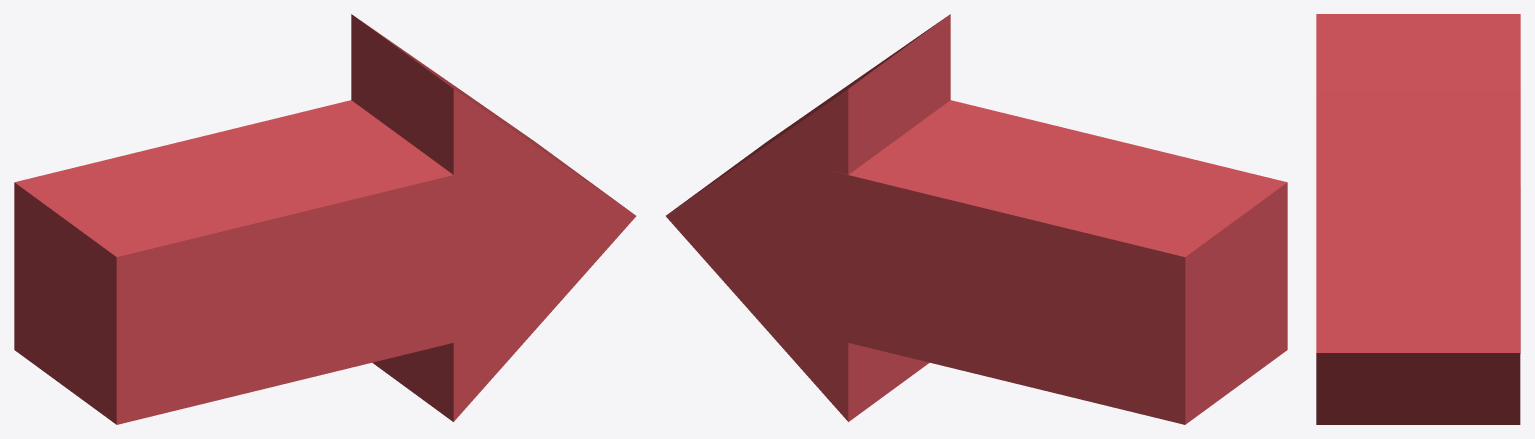
The model's file is Arrows.fbx.
3 views of the same model, side by side, from view 1: azimuth 30°, elevation 25°; view 2: azimuth 150°, elevation 25°; view 3: azimuth 270°, elevation 25° (orthographic).
Parts seen in each view (by area): view 1: root.002, root.001; view 2: root.002, root.001; view 3: root.001, root.002.
Part boxes in pixels (<box>): root.002: <box>14,100,470,424</box>; root.001: <box>351,14,636,421</box>; root.002: <box>831,100,1287,424</box>; root.001: <box>666,14,950,421</box>; root.001: <box>1316,92,1520,424</box>; root.002: <box>1316,14,1520,353</box>.
Size of the model in its own units: 345 by 211 by 118.
